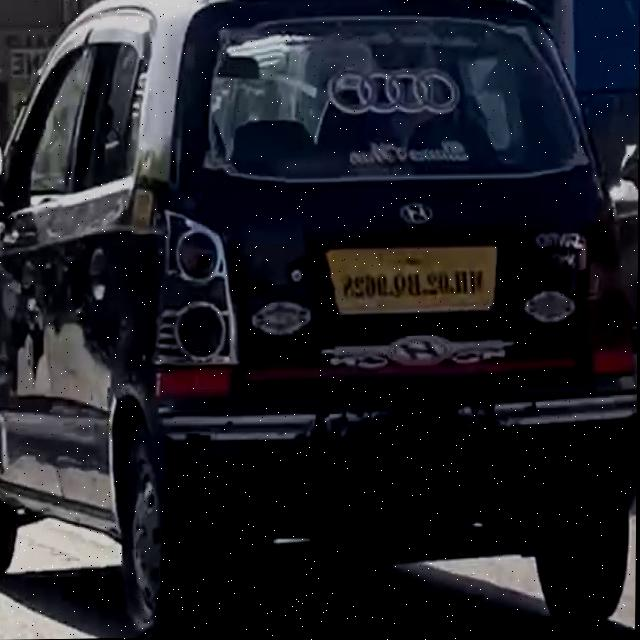plate: (322, 243, 503, 317)
